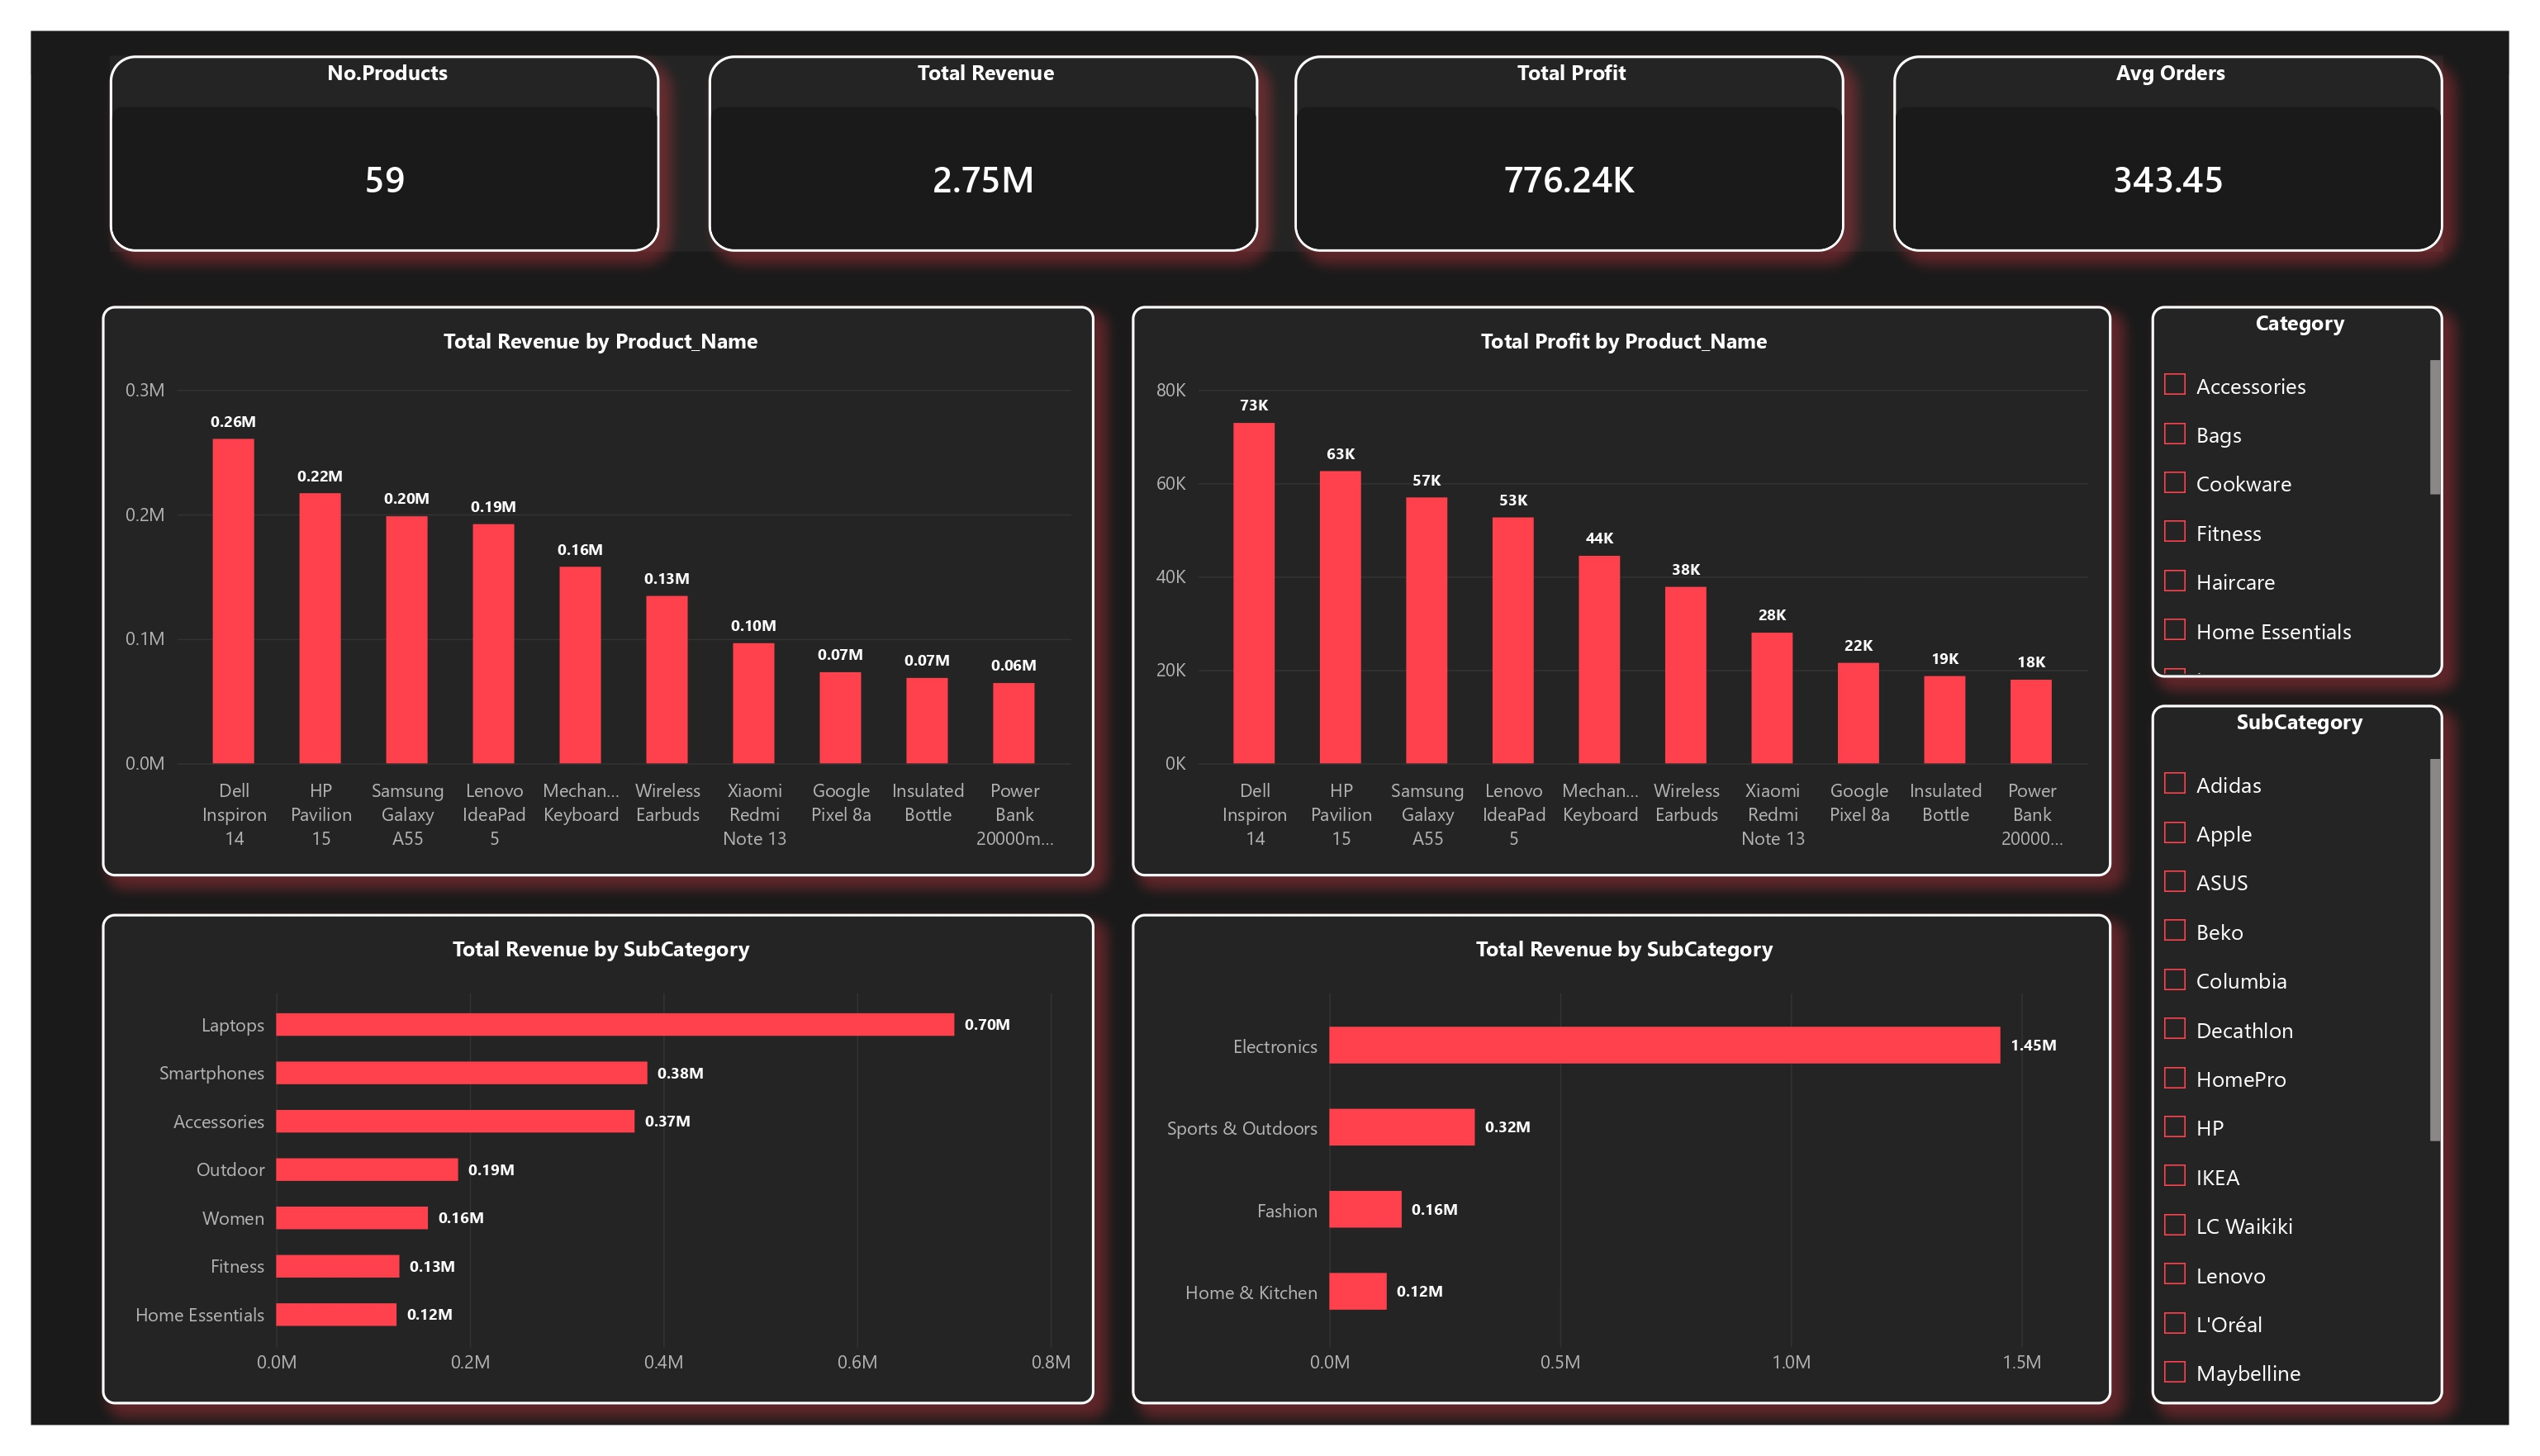

This screenshot's page, from the dashboard's own definition file:
{"tool":"powerbi","page":{"name":"Product Analysis","canvas":[1920,1080],"ordinal":1},"visuals":[{"type":"cardVisual","title":"No.Products","fields":{"Data":["Count(DimProduct.Product_Name)"]},"box":[60.8,19,425.8,151.9],"z":0,"group":"g1"},{"type":"clusteredColumnChart","title":"Total Revenue by Product_Name","fields":{"Category":["DimProduct.Product_Name"],"Y":["measures_table.Total Revenue"]},"box":[55.1,212.7,769.1,442.5],"z":0},{"type":"cardVisual","title":"Total Revenue","fields":{"Data":["measures_table.Total Revenue"]},"box":[524.3,19.2,426,151.5],"z":1000,"group":"g1"},{"type":"columnChart","title":"Total Profit by Product_Name","fields":{"Category":["DimProduct.Product_Name"],"Y":["measures_table.Total Profit"]},"box":[852.7,212.7,759.6,442.5],"z":1000},{"type":"cardVisual","title":"Total Profit","fields":{"Data":["measures_table.Total Profit"]},"box":[979.2,19.2,426,151.5],"z":2000,"group":"g1"},{"type":"clusteredBarChart","title":"Total Revenue by SubCategory","fields":{"Category":["DimProduct.Subcategory"],"Y":["measures_table.Total Revenue"]},"box":[55.1,683.7,769.1,379.8],"z":2000},{"type":"cardVisual","title":"Avg Orders","fields":{"Data":["measures_table.Average Order Value"]},"box":[1442.8,19.2,426,151.5],"z":3000,"group":"g1"},{"type":"slicer","title":"SubCategory","fields":{"Values":["DimProduct.Brand"]},"box":[1642.7,522.3,226,541.2],"z":3000},{"type":"slicer","title":"Category","fields":{"Values":["DimProduct.Subcategory"]},"box":[1642.7,212.7,226,288.7],"z":4000},{"type":"barChart","title":"Total Revenue by SubCategory","fields":{"Y":["measures_table.Total Revenue"],"Category":["DimProduct.Category"]},"box":[852.7,683.7,759.6,379.8],"z":11000},{"type":"group","id":"g1","title":"Group 1","box":[60.8,19,1808,151.9],"z":12000}]}

Visuals, with their boxes on the page's 1920x1080 design canvas (x1, y1, x2, y2). These are canvas units, not pixel positions in the 2540x1456 screenshot, which may show the page scaled, cropped or inside an application window:
"No.Products" cardVisual: (x1=61, y1=19, x2=487, y2=171)
"Total Revenue by Product_Name" clusteredColumnChart: (x1=55, y1=213, x2=824, y2=655)
"Total Revenue" cardVisual: (x1=524, y1=19, x2=950, y2=171)
"Total Profit by Product_Name" columnChart: (x1=853, y1=213, x2=1612, y2=655)
"Total Profit" cardVisual: (x1=979, y1=19, x2=1405, y2=171)
"Total Revenue by SubCategory" clusteredBarChart: (x1=55, y1=684, x2=824, y2=1064)
"Avg Orders" cardVisual: (x1=1443, y1=19, x2=1869, y2=171)
"SubCategory" slicer: (x1=1643, y1=522, x2=1869, y2=1064)
"Category" slicer: (x1=1643, y1=213, x2=1869, y2=501)
"Total Revenue by SubCategory" barChart: (x1=853, y1=684, x2=1612, y2=1064)
"Group 1" group: (x1=61, y1=19, x2=1869, y2=171)
